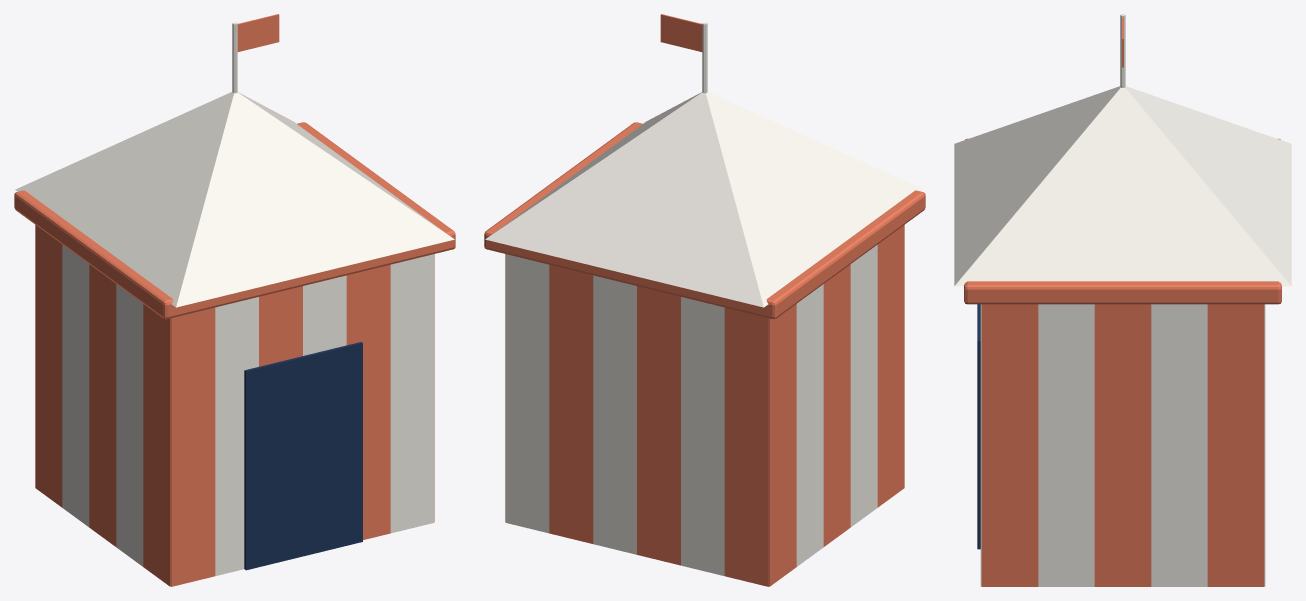
File: b_cabana_coral.gltf
3 views of the same model, side by side, from view 1: azimuth 30°, elevation 25°; view 2: azimuth 150°, elevation 25°; view 3: azimuth 270°, elevation 25° (orthographic). The views are drawn at different scales.
Visible parts, largest first — view 1: b_cabana_coral; view 2: b_cabana_coral; view 3: b_cabana_coral.
Part boxes in pixels (box(x1,y1,x2,y2)): b_cabana_coral: box(14, 14, 455, 586); b_cabana_coral: box(484, 14, 925, 586); b_cabana_coral: box(954, 14, 1291, 586).
Bounding box in the file's own units: 2 × 3.15 × 1.91.
1 material, 1 textured.
